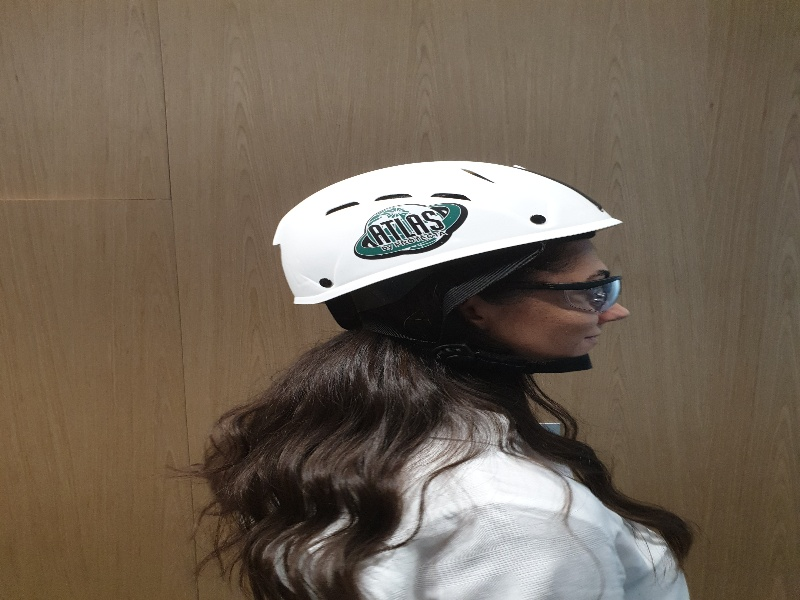Baret: (275, 159, 629, 281)
Gozluk: (482, 276, 622, 307)
